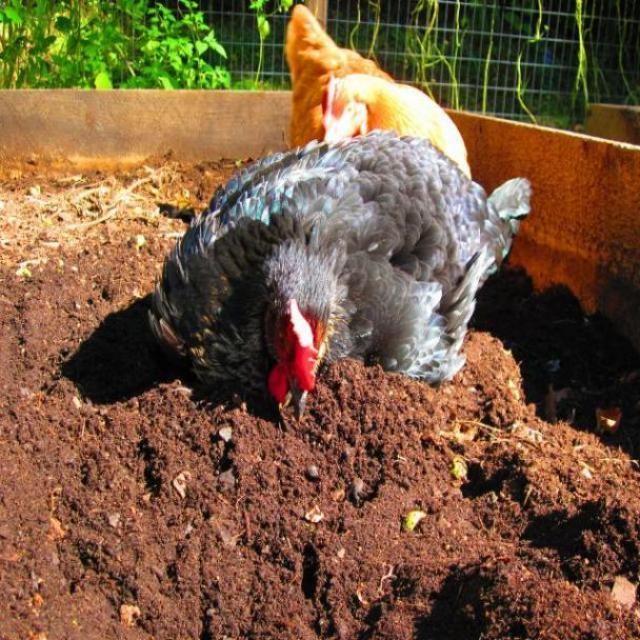Chicken: (156, 138, 538, 408), (286, 7, 463, 142)
